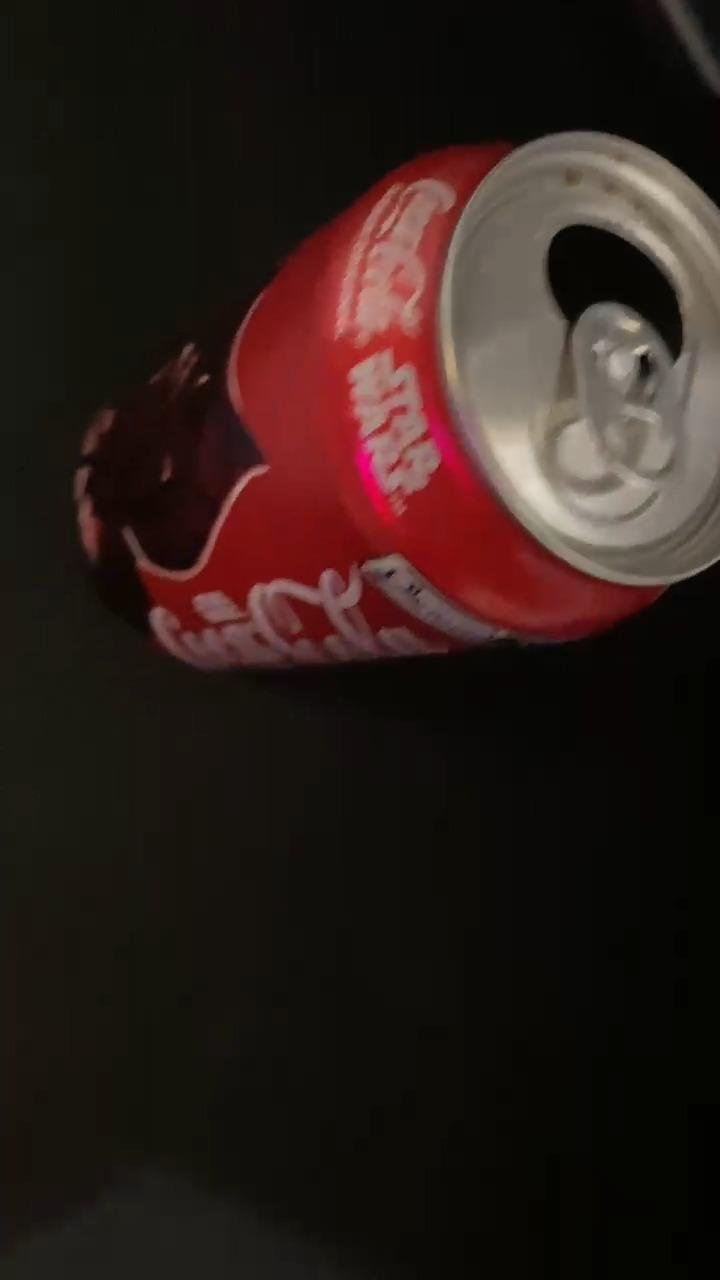coke: (71, 129, 714, 670)
